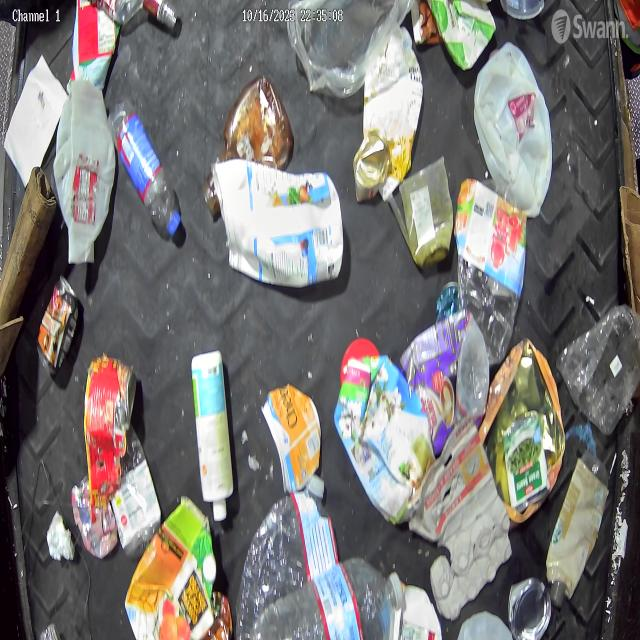can: (82, 358, 136, 448), (38, 273, 80, 374), (508, 574, 552, 640), (353, 128, 390, 204)
milk_jug: (474, 42, 554, 219), (55, 74, 116, 266)
non_white_jug: (333, 353, 437, 526), (211, 156, 344, 288)
plastic_bottle: (453, 178, 526, 366), (249, 556, 400, 640), (109, 102, 181, 235), (110, 428, 162, 554)
